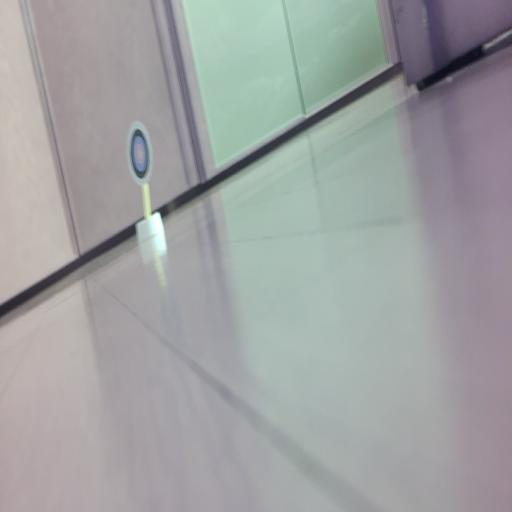target: (127, 122, 153, 186)
